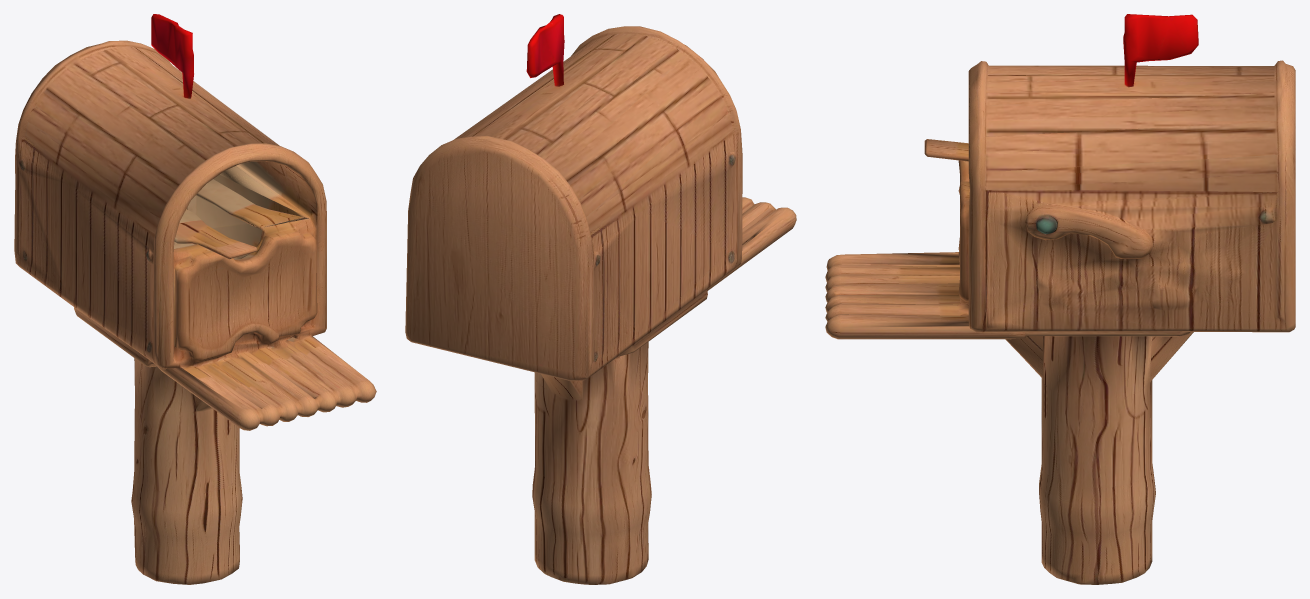
The model's file is mailbox.glb.
3 views of the same model, side by side, from view 1: azimuth 30°, elevation 25°; view 2: azimuth 150°, elevation 25°; view 3: azimuth 270°, elevation 25° (orthographic). The views are drawn at different scales.
Size of the model in its own units: 0.6967 by 1.91 by 1.46.
1 material, 1 textured.
